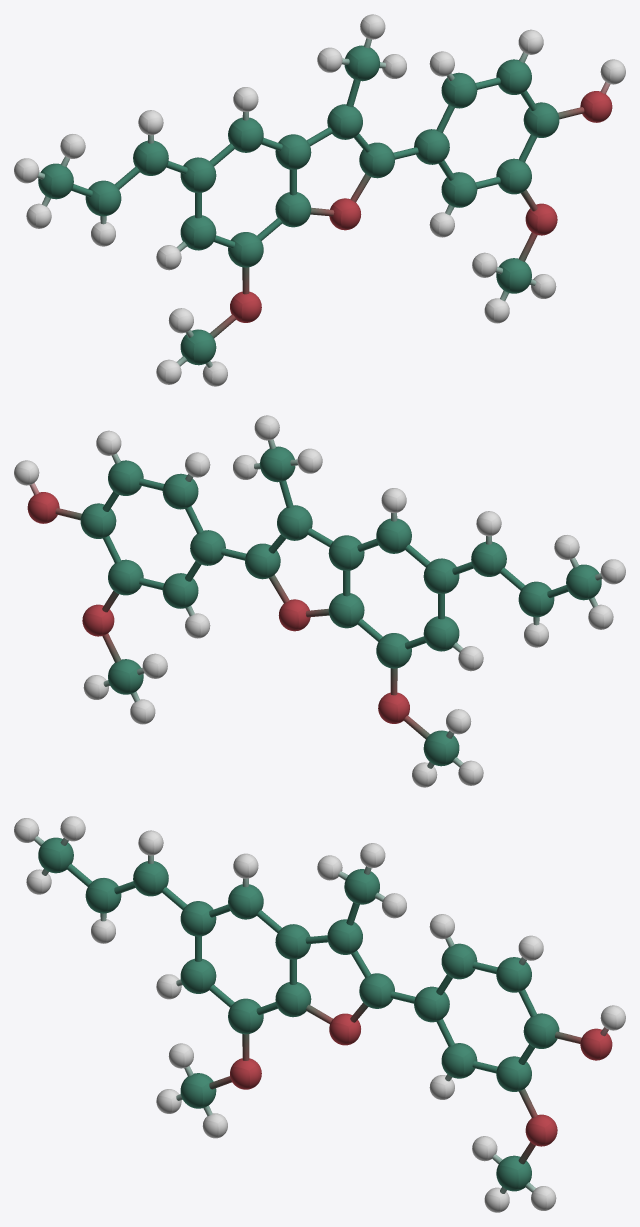
Rendered from Eupomatenoid-7.fbx.
3 views of the same model, one above another, from view 1: azimuth 30°, elevation 25°; view 2: azimuth 150°, elevation 25°; view 3: azimuth 330°, elevation 25° (orthographic).
Visible parts, largest first — view 1: curMeshHyperballExportedMesh; view 2: curMeshHyperballExportedMesh; view 3: curMeshHyperballExportedMesh.
Part boxes in pixels (box(x1,y1,x2,y2)): curMeshHyperballExportedMesh: box(14, 14, 625, 386); curMeshHyperballExportedMesh: box(14, 415, 625, 787); curMeshHyperballExportedMesh: box(14, 816, 625, 1212).
Size of the model in its own units: 11.11 by 5.88 by 0.5667.
